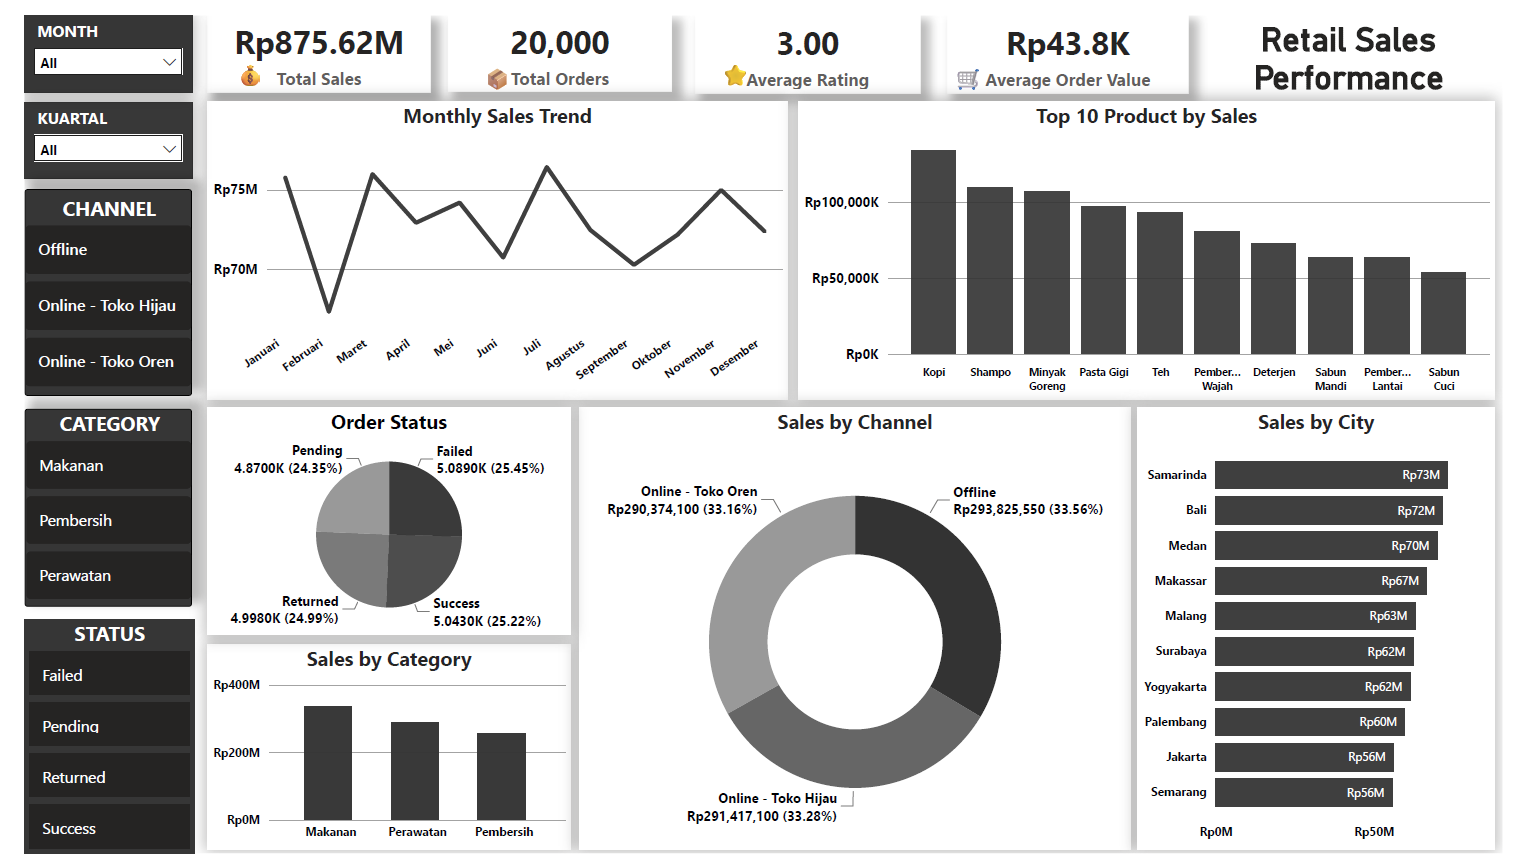

This screenshot's page, from the dashboard's own definition file:
{"tool":"powerbi","page":{"name":"Sales Report","canvas":[1500,850],"ordinal":0},"visuals":[{"type":"advancedSlicerVisual","title":"CHANNEL","fields":{"Values":["orders.channel"]},"box":[0,176.2,170,210],"z":0},{"type":"textbox","box":[1195.6,0,296.7,87.8],"z":1000},{"type":"advancedSlicerVisual","title":"CATEGORY","fields":{"Values":["orders.category"]},"box":[0,398.8,170,201.2],"z":2000},{"type":"advancedSlicerVisual","title":"STATUS","fields":{"Values":["orders.status"]},"box":[0,612.5,172.5,237.5],"z":3000},{"type":"card","title":"💰 Revenue","fields":{"Values":["orders.Total Revenue"]},"box":[185.7,0,226.5,77.6],"z":4000},{"type":"card","fields":{"Values":["orders.Total Orders"]},"box":[430,0,227.1,77.1],"z":5000},{"type":"card","fields":{"Values":["orders.Average Rating"]},"box":[681.2,0,227.5,78.8],"z":6000},{"type":"card","title":"Average Order Value (AOV)","fields":{"Values":["orders.Average Order Value"]},"box":[937.1,0,244.3,78.6],"z":7000},{"type":"lineChart","title":"Monthly Sales Trend","fields":{"Category":["orders.sales_date.Variasi.Hierarki Tanggal.Bulan"],"Y":["orders.Total Revenue"]},"box":[185.6,86.7,588.9,303.3],"z":8000},{"type":"clusteredColumnChart","title":"Sales by Category","fields":{"Category":["orders.category"],"Y":["orders.Total Revenue"]},"box":[186.2,637.5,367.5,208.8],"z":9000},{"type":"clusteredColumnChart","title":"Top 10 Product by Sales","fields":{"Category":["orders.product_name"],"Y":["orders.Total Sales"]},"box":[785.6,86.7,706.7,303.3],"z":10000},{"type":"donutChart","title":"Sales by Channel","fields":{"Y":["orders.Total Revenue"],"Category":["orders.channel"]},"box":[562.5,397.5,560,448.8],"z":11000},{"type":"pieChart","title":"Order Status","fields":{"Category":["orders.status"],"Y":["orders.Total Orders"]},"box":[186.2,397.5,367.5,230],"z":12000},{"type":"slicer","fields":{"Values":["orders.sales_date.Variasi.Hierarki Tanggal.Bulan"]},"box":[0,0,170,77.5],"z":13000},{"type":"slicer","title":"KUARTAL","fields":{"Values":["orders.sales_date.Variasi.Hierarki Tanggal.Kuartal"]},"box":[0,87.5,170,77.5],"z":14000},{"type":"clusteredBarChart","title":"Sales by City","fields":{"Category":["orders.customer_address"],"Y":["orders.Total Revenue"]},"box":[1130,397.8,362.2,447.8],"z":15000},{"type":"textbox","box":[200,40,57.5,47.5],"z":16000},{"type":"textbox","box":[451.2,43.8,57.5,47.5],"z":17000},{"type":"textbox","box":[928.8,43.8,57.5,47.5],"z":18000},{"type":"textbox","box":[692.5,40,57.5,47.5],"z":19000}]}

Visuals, with their boxes in screenshot pixels (x1, y1, x2, y2), scaled from the page's 1500x850 canvas onto the 1524x865 screenshot:
"CHANNEL" advancedSlicerVisual: (0, 179, 173, 393)
textbox: (1215, 0, 1516, 89)
"CATEGORY" advancedSlicerVisual: (0, 406, 173, 611)
"STATUS" advancedSlicerVisual: (0, 623, 175, 864)
"💰 Revenue" card: (189, 0, 419, 79)
card - orders.Total Orders: (437, 0, 668, 78)
card - orders.Average Rating: (692, 0, 923, 80)
"Average Order Value (AOV)" card: (952, 0, 1200, 80)
"Monthly Sales Trend" lineChart: (189, 88, 787, 397)
"Sales by Category" clusteredColumnChart: (189, 649, 563, 861)
"Top 10 Product by Sales" clusteredColumnChart: (798, 88, 1516, 397)
"Sales by Channel" donutChart: (572, 405, 1140, 861)
"Order Status" pieChart: (189, 405, 563, 639)
slicer - orders.sales_date.Variasi.Hierarki Tanggal.Bulan: (0, 0, 173, 79)
"KUARTAL" slicer: (0, 89, 173, 168)
"Sales by City" clusteredBarChart: (1148, 405, 1516, 861)
textbox: (203, 41, 262, 89)
textbox: (458, 45, 517, 93)
textbox: (944, 45, 1002, 93)
textbox: (704, 41, 762, 89)
